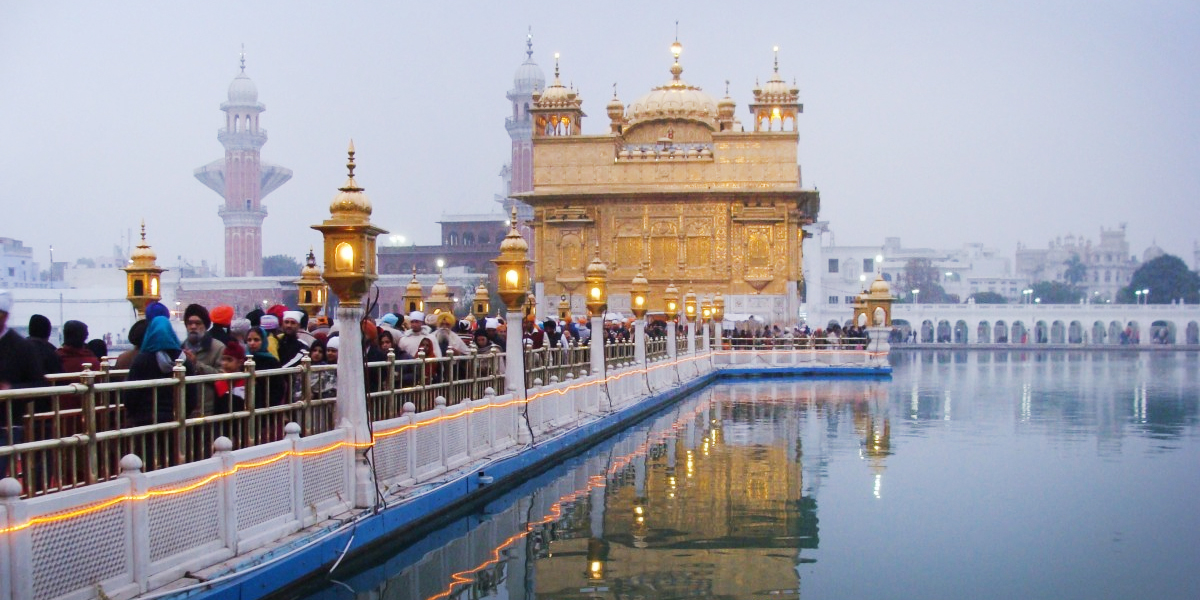Gurdwara: (485, 42, 788, 324)
